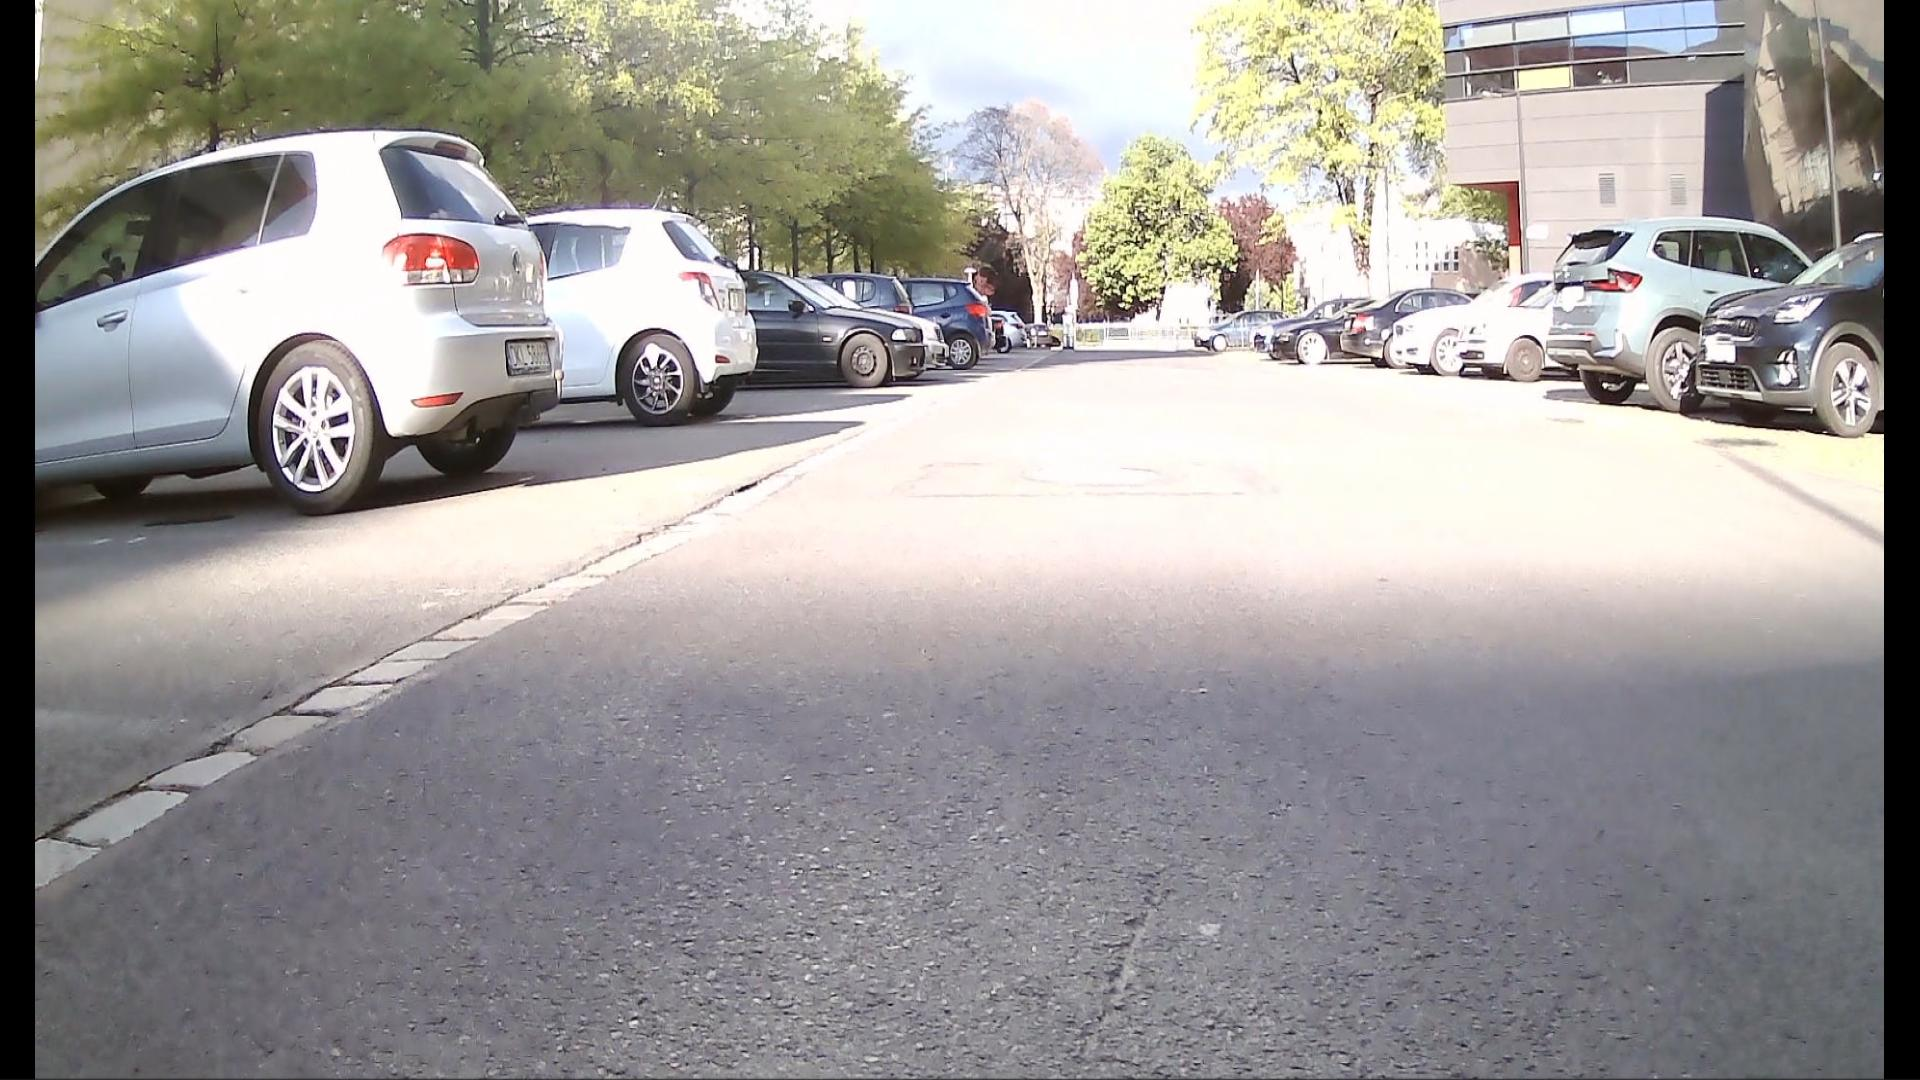car: (34, 33, 563, 567)
